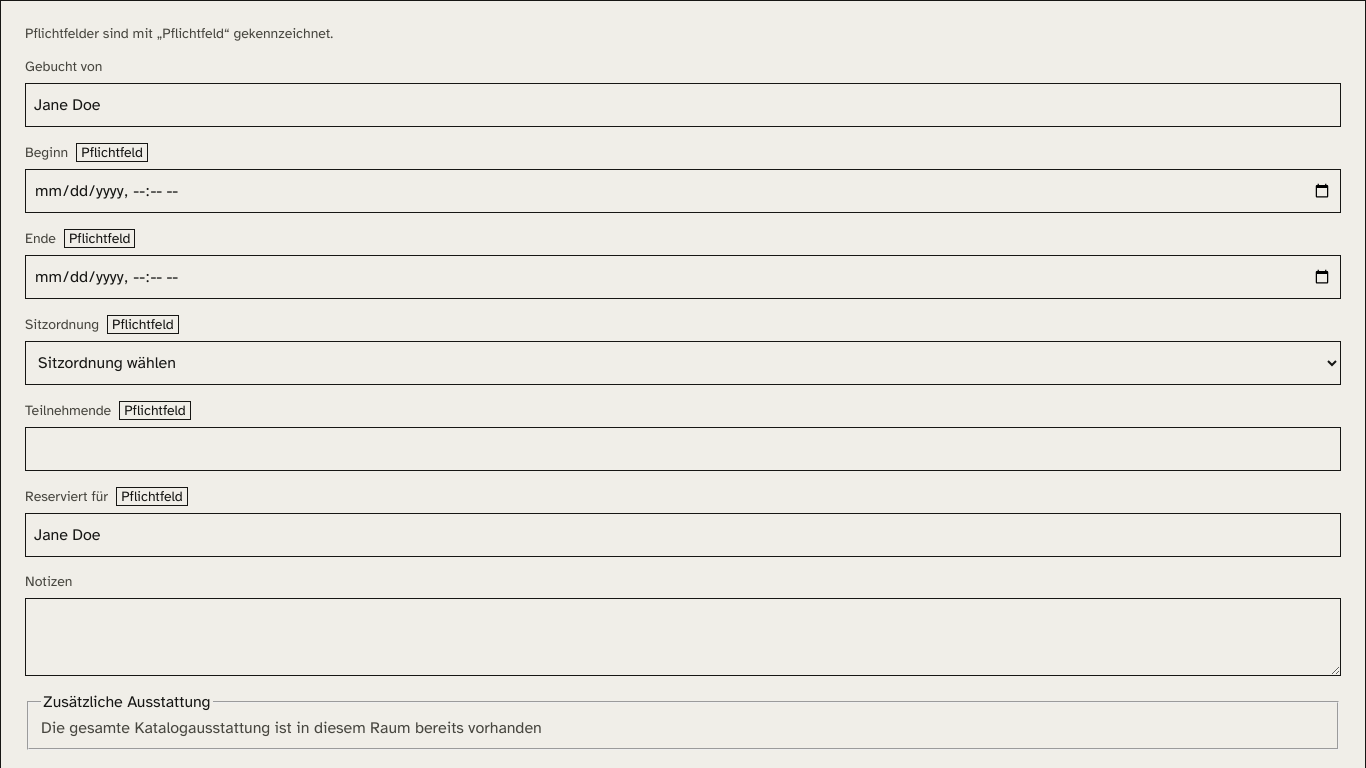
ReservationForm › validates attendee count against chosen seating arrangement capacity
Step 1. Select "Classroom (Capacity: 20)" in the dropdown labelled "Sitzordnung" → (683, 363), box [25,341,1341,385]
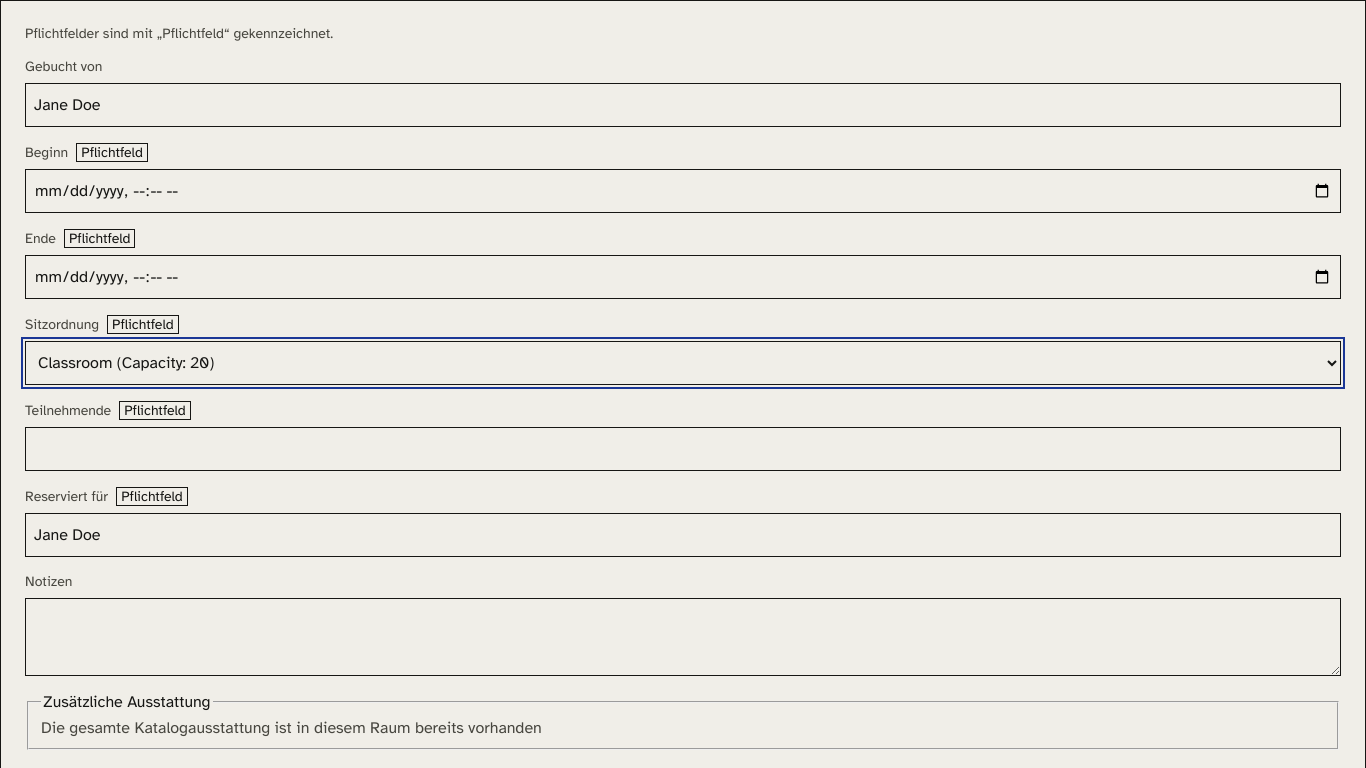
Step 2. Type "25" into the number field labelled "Teilnehmende" → (683, 449), box [25,427,1341,471]
(page scrolled)
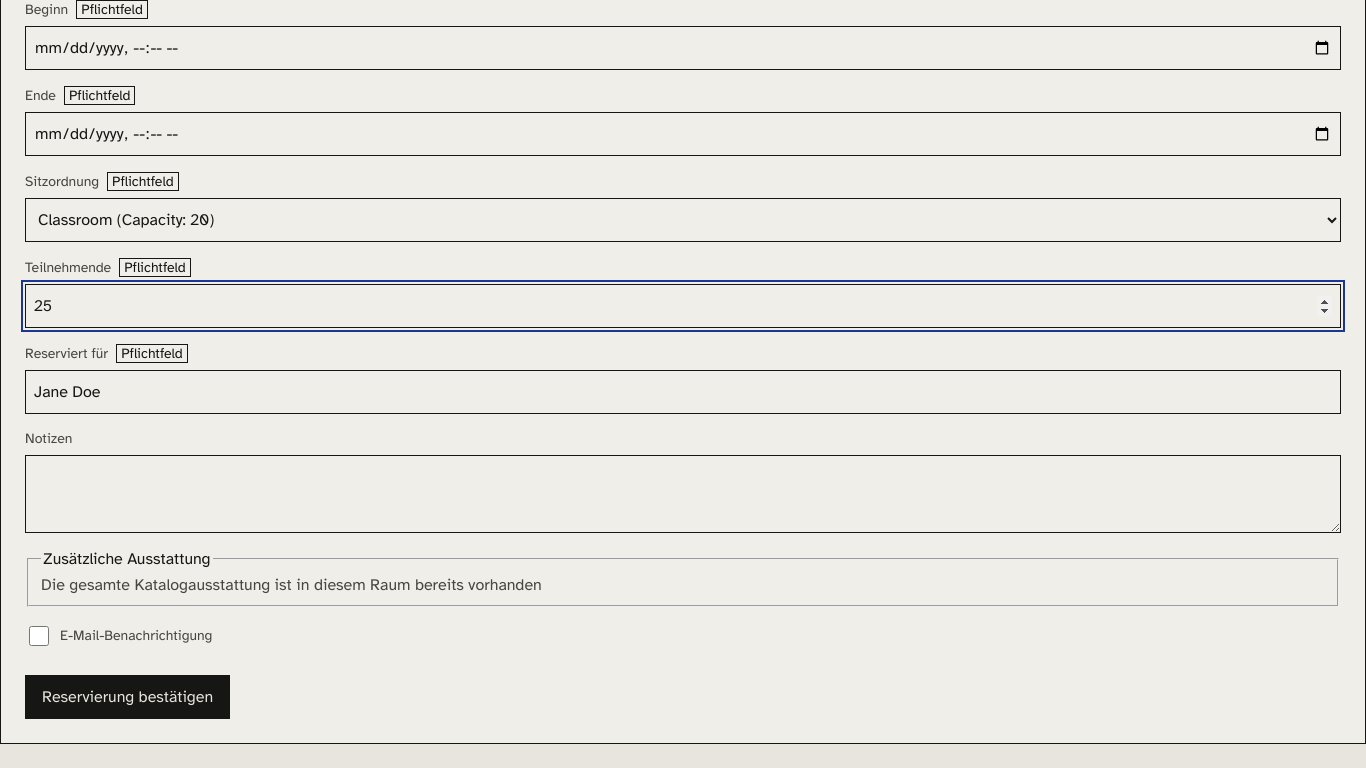
Step 3. Click the button "Reservierung bestätigen" → click(128, 697), box [25,675,230,719]
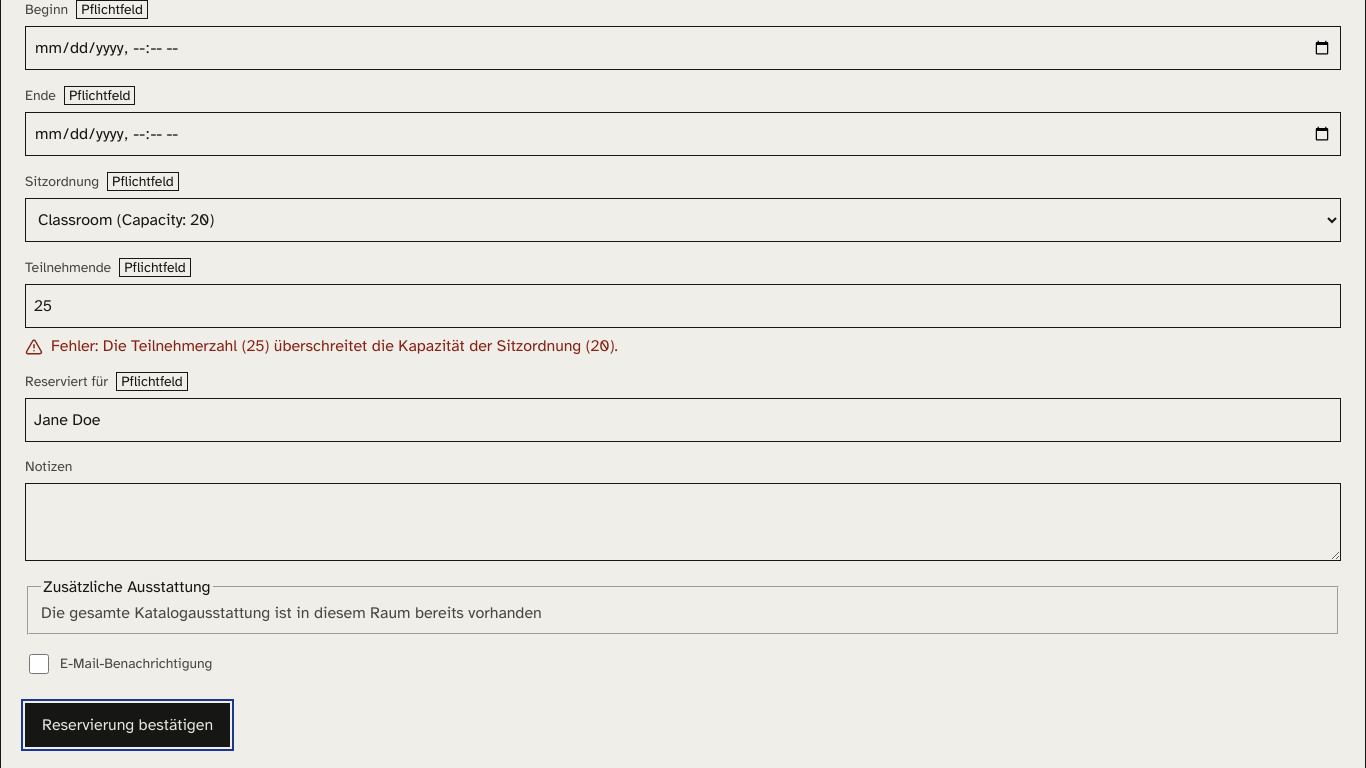
Check: the text "überschreitet die Kapazität der Sitzordnung (20)" is shown, box [103,336,618,356]
